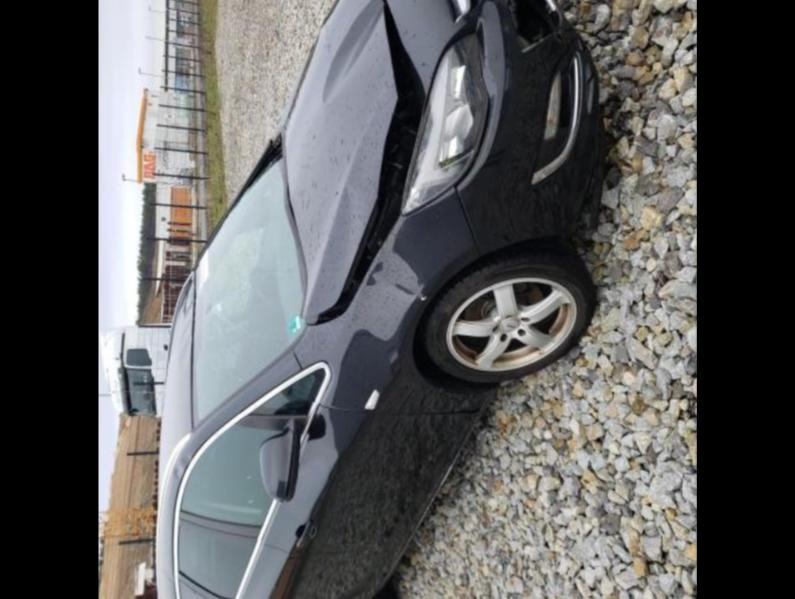Broken part: (319, 0, 428, 323), (435, 12, 481, 67)
Corrosion: (454, 305, 570, 364)
Dent: (322, 0, 383, 103), (366, 252, 426, 299), (180, 447, 193, 460), (172, 465, 183, 479)
Missing part: (506, 0, 559, 50)
Scratch: (420, 294, 427, 300)
